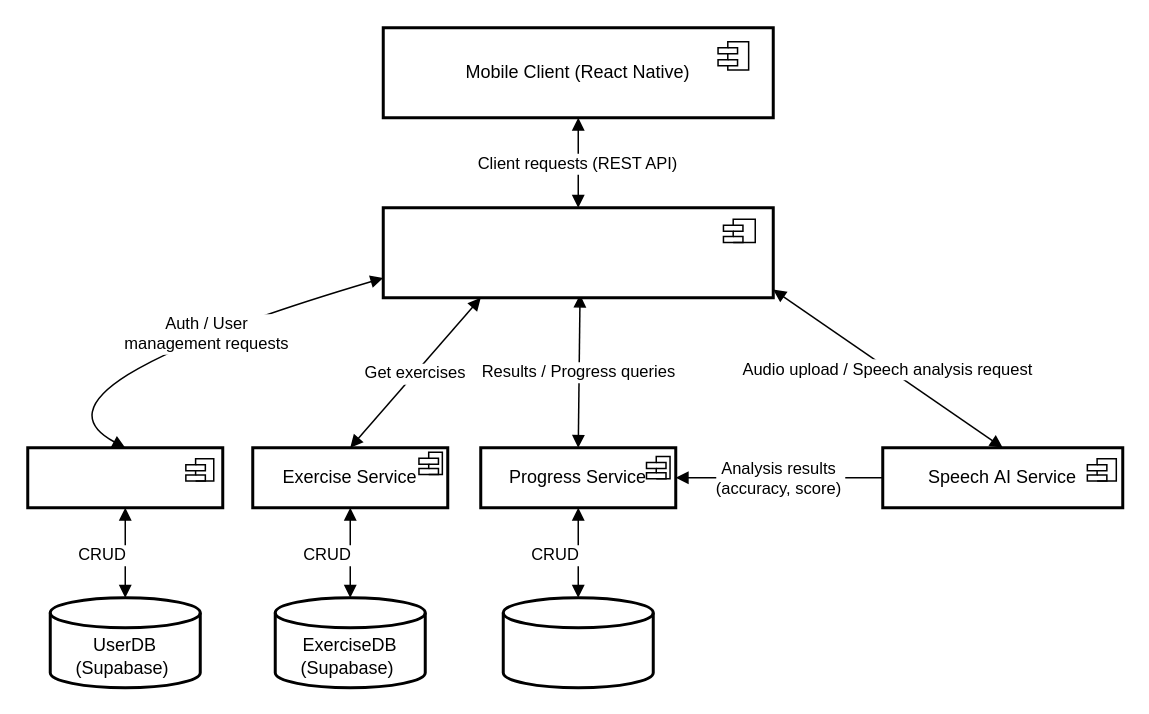
This 1149x714 diagram has some shape labels left out. Here are the shapes that lost their labels. From the top down, the box of each, then its label:
(381, 206, 774, 298): API Gateway
(26, 446, 224, 508): User Service
(501, 596, 654, 688): ProgressDB (Supabase)
